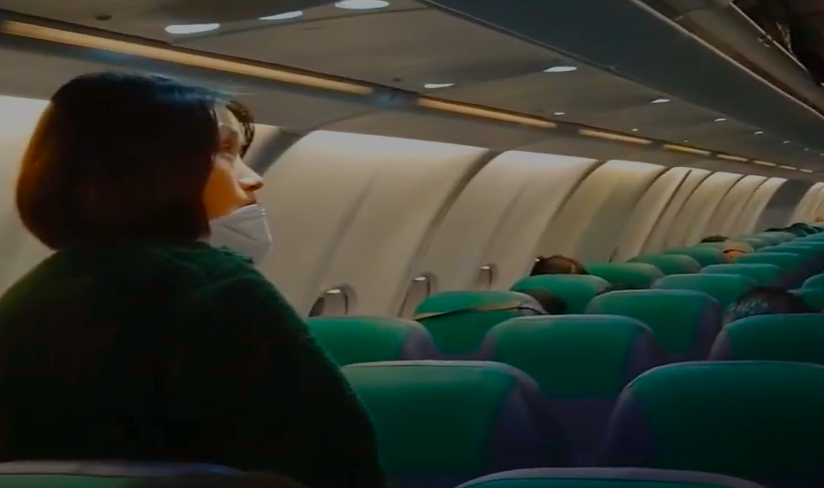mask_weared_incorrect: (118, 68, 277, 265)
